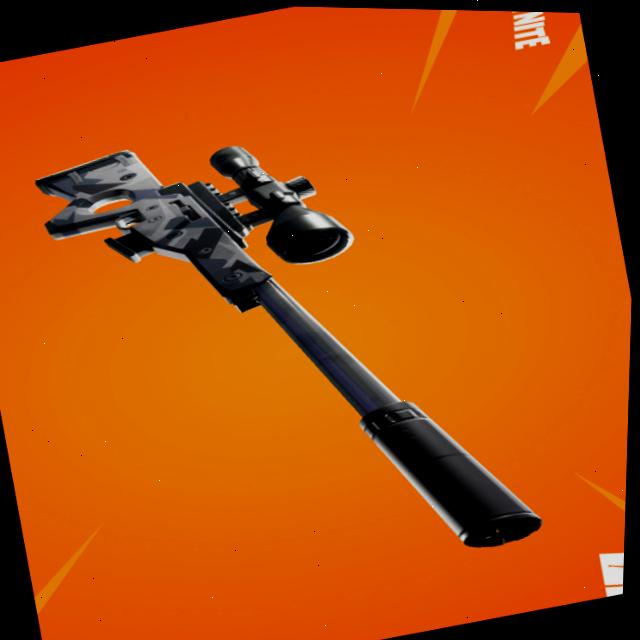firearm: (21, 75, 559, 625)
